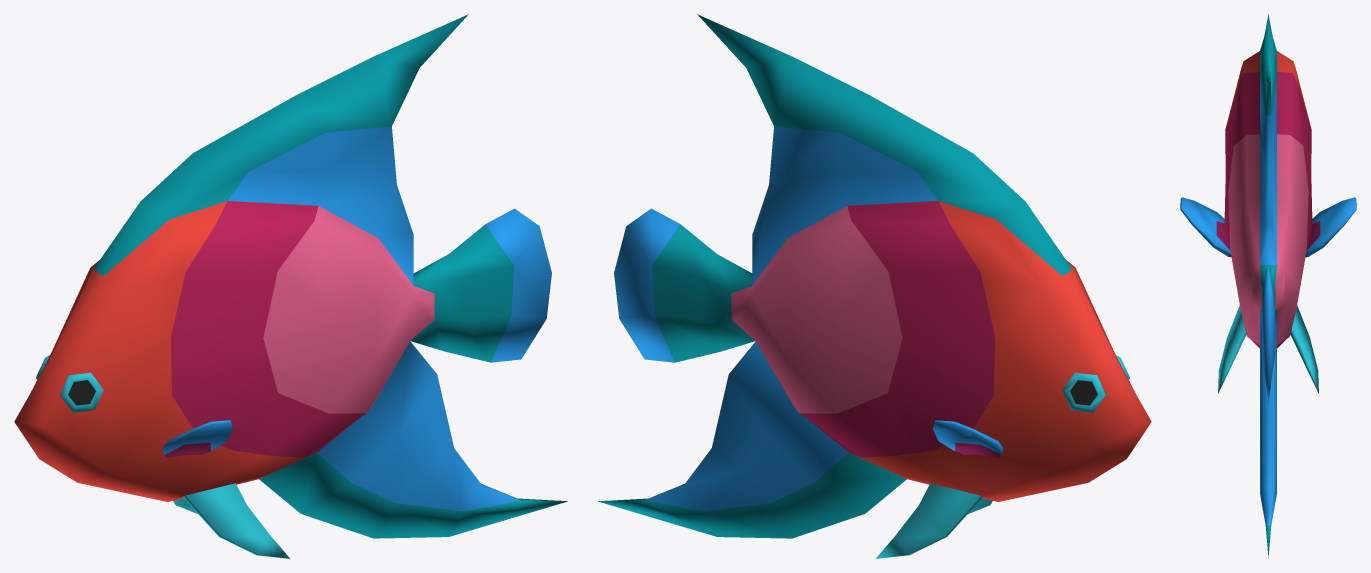
File: Fish_045.glb
The picture shows the model from 3 angles, left to right: view 1: azimuth 30°, elevation 25°; view 2: azimuth 150°, elevation 25°; view 3: azimuth 270°, elevation 25°; orthographic projection. The views are drawn at different scales.
Parts seen in each view (by area): view 1: Fish_045; view 2: Fish_045; view 3: Fish_045.
Part boxes in pixels (left/top/right/bottom): Fish_045: left=14, top=14, right=567, bottom=558; Fish_045: left=598, top=14, right=1151, bottom=558; Fish_045: left=1180, top=14, right=1356, bottom=558.
Bounding box in the file's own units: 0.4929 × 0.44 × 0.1551.
Materials: 1 (1 with a texture image).
